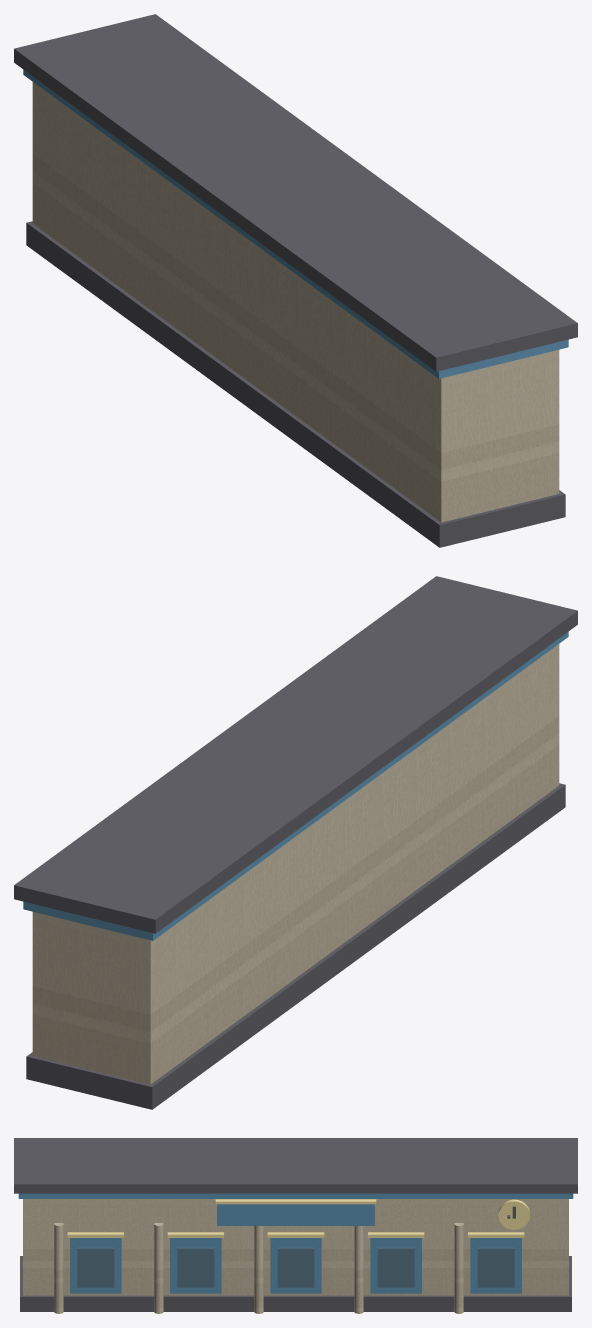
Rendered from SM_Station_Kit.glb.
The picture shows the model from 3 angles, top to bottom: view 1: azimuth 30°, elevation 25°; view 2: azimuth 150°, elevation 25°; view 3: azimuth 270°, elevation 25°; orthographic projection. The views are drawn at different scales.
Visible parts, largest first — view 1: Facade, Roof, BasePlinth, Cornice; view 2: Facade, Roof, BasePlinth, Cornice; view 3: Roof, Facade, BasePlinth, Signboard, Cornice, ArchGlass0, ArchGlass1, ArchGlass3, ArchGlass4, ArchGlass2, Arch0, Arch1 (+15 smaller).
Part boxes in pixels (x1,y1,x2,y2): Facade: [32, 82, 559, 522]; Roof: [14, 14, 577, 371]; BasePlinth: [26, 221, 565, 547]; Cornice: [23, 70, 568, 378]; Facade: [32, 644, 559, 1084]; Roof: [14, 576, 577, 933]; BasePlinth: [26, 783, 565, 1109]; Cornice: [23, 632, 568, 940]; Roof: [14, 1138, 577, 1193]; Facade: [23, 1199, 568, 1295]; BasePlinth: [20, 1256, 571, 1311]; Signboard: [217, 1204, 374, 1225]; Cornice: [18, 1193, 573, 1198]; ArchGlass0: [477, 1247, 514, 1287]; ArchGlass1: [377, 1247, 414, 1287]; ArchGlass3: [177, 1247, 214, 1287]; ArchGlass4: [77, 1247, 114, 1287]; ArchGlass2: [277, 1247, 314, 1287]; Arch0: [470, 1238, 521, 1293]; Arch1: [370, 1238, 421, 1293].
Bounding box in the file's own units: 3.75 × 4.75 × 18.6.
5 materials, 1 textured.
